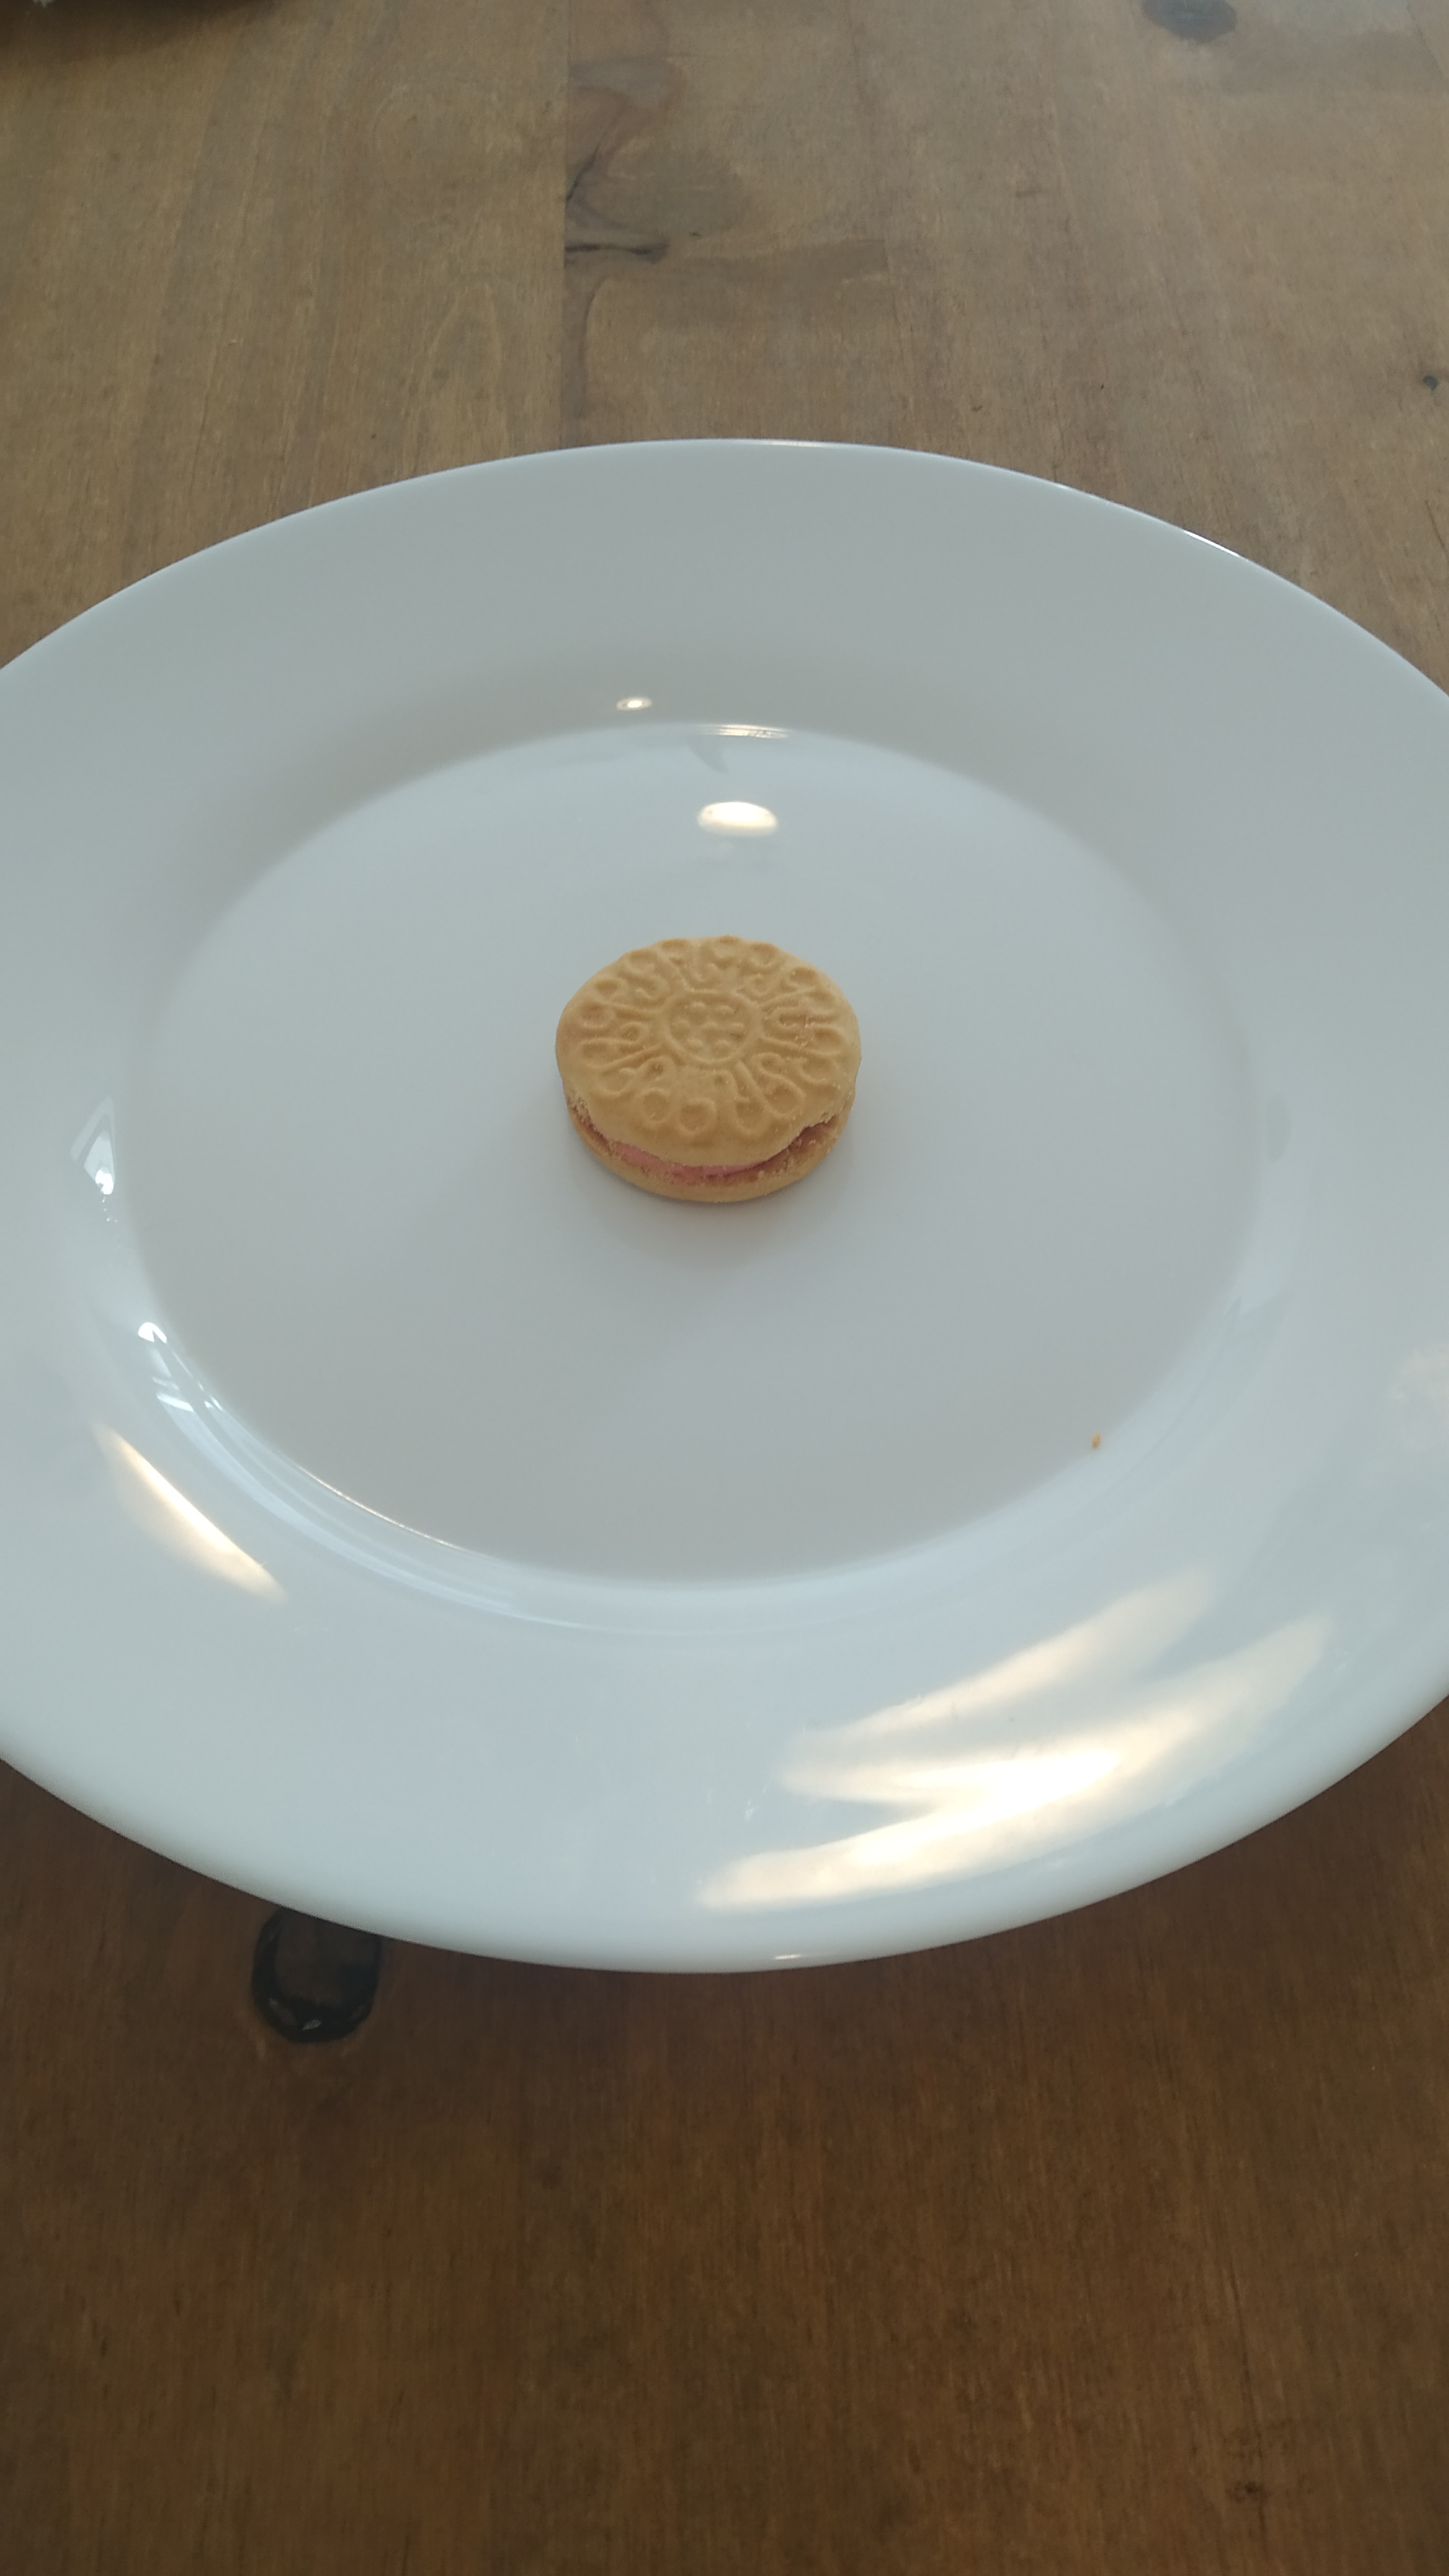lulu: (556, 936, 862, 1207)
